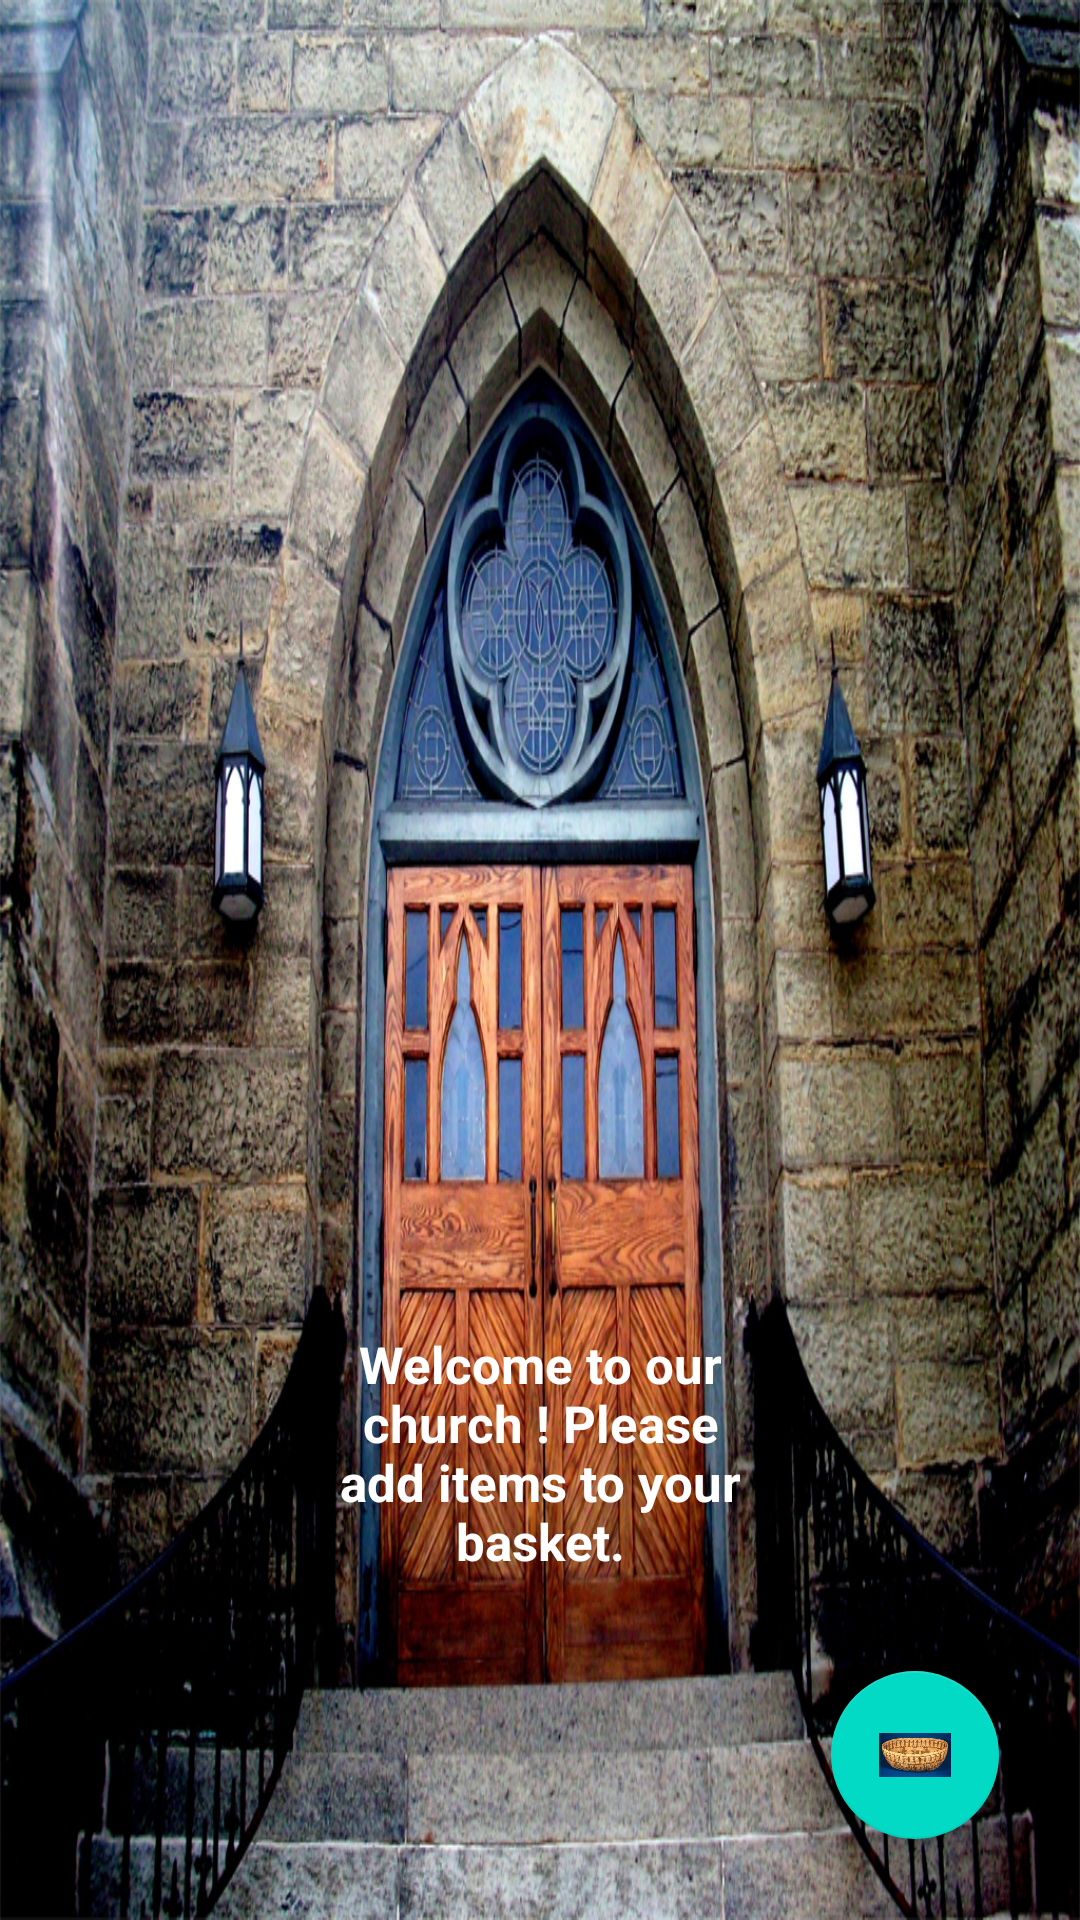

Screen size 1080×1920. Icon name, then its center in pixels as point (x, y):
empty basket: point (915, 1755)
